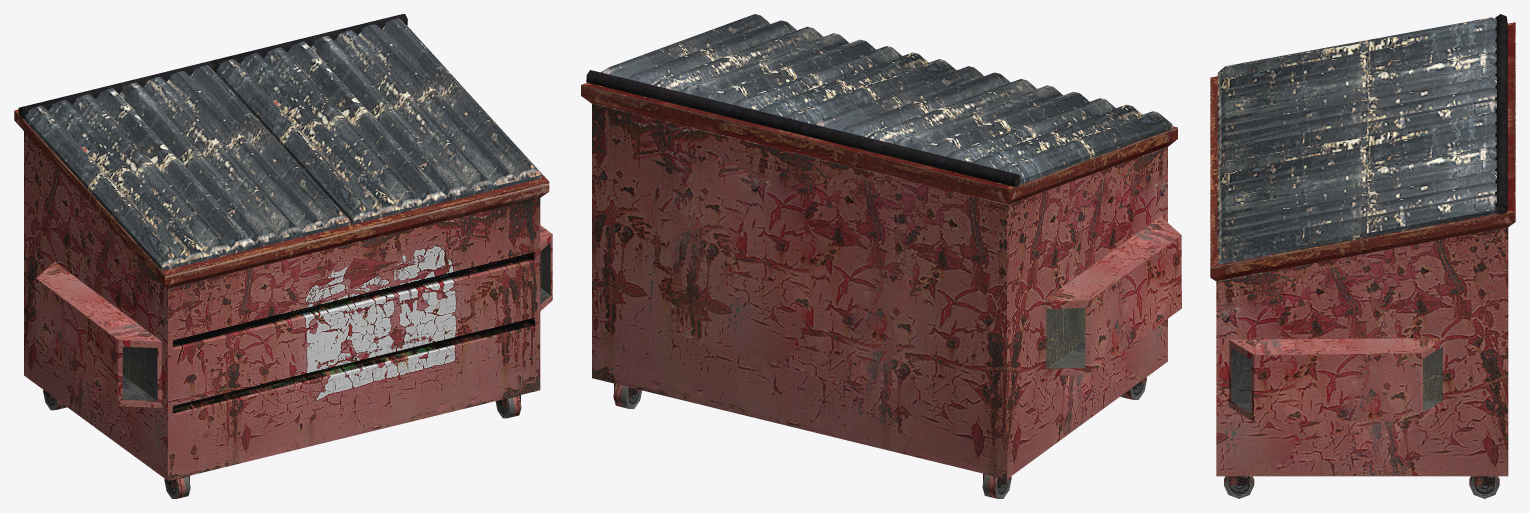
The model's file is dumpster_closed_empty.fbx.
3 renders of one model, left to right at view 1: azimuth 30°, elevation 25°; view 2: azimuth 150°, elevation 25°; view 3: azimuth 270°, elevation 25°, orthographic. The views are drawn at different scales.
Parts seen in each view (by area): view 1: bin_base, leftlid, rightlid; view 2: bin_base, leftlid, rightlid; view 3: bin_base, rightlid, leftlid.
Part boxes in pixels (<box>): bin_base: <box>14,109,552,498</box>; leftlid: <box>18,61,350,270</box>; rightlid: <box>211,14,542,224</box>; bin_base: <box>581,82,1181,498</box>; leftlid: <box>800,66,1172,187</box>; rightlid: <box>586,14,956,134</box>; bin_base: <box>1210,22,1515,498</box>; rightlid: <box>1217,109,1507,264</box>; leftlid: <box>1217,14,1507,166</box>.
Bounding box in the file's own units: 267 × 178 × 160.
